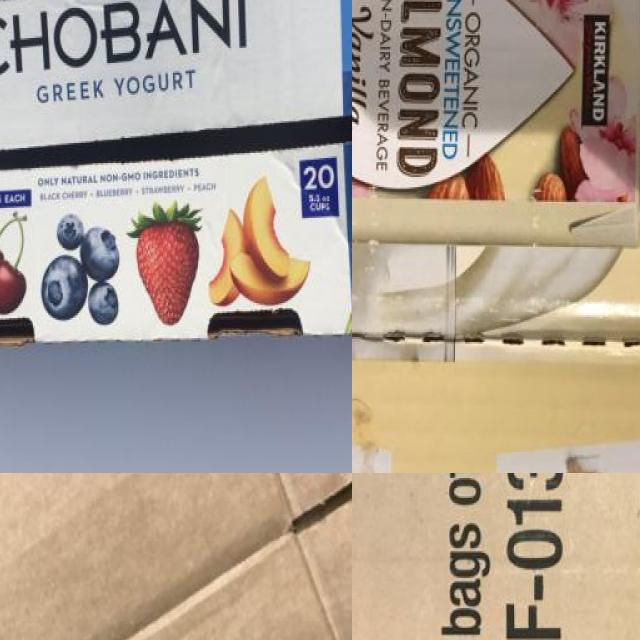class_name: (352, 0, 640, 473), (0, 0, 352, 347), (0, 473, 352, 640), (352, 473, 640, 640)
